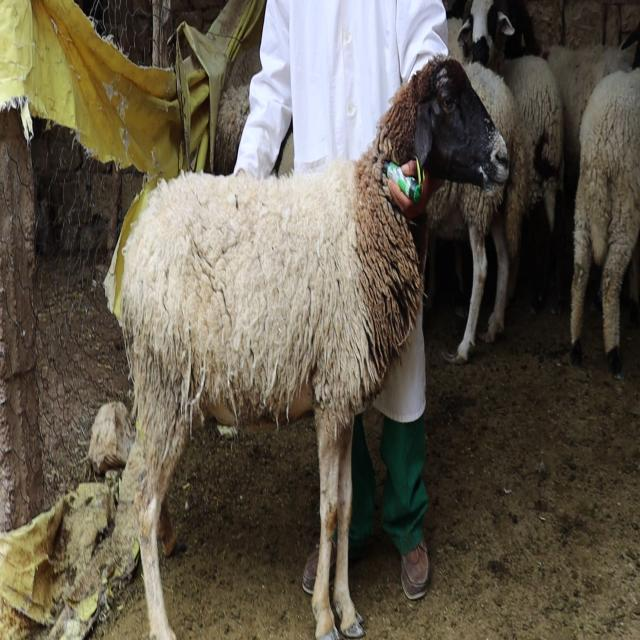Score_2: (119, 56, 508, 639)
